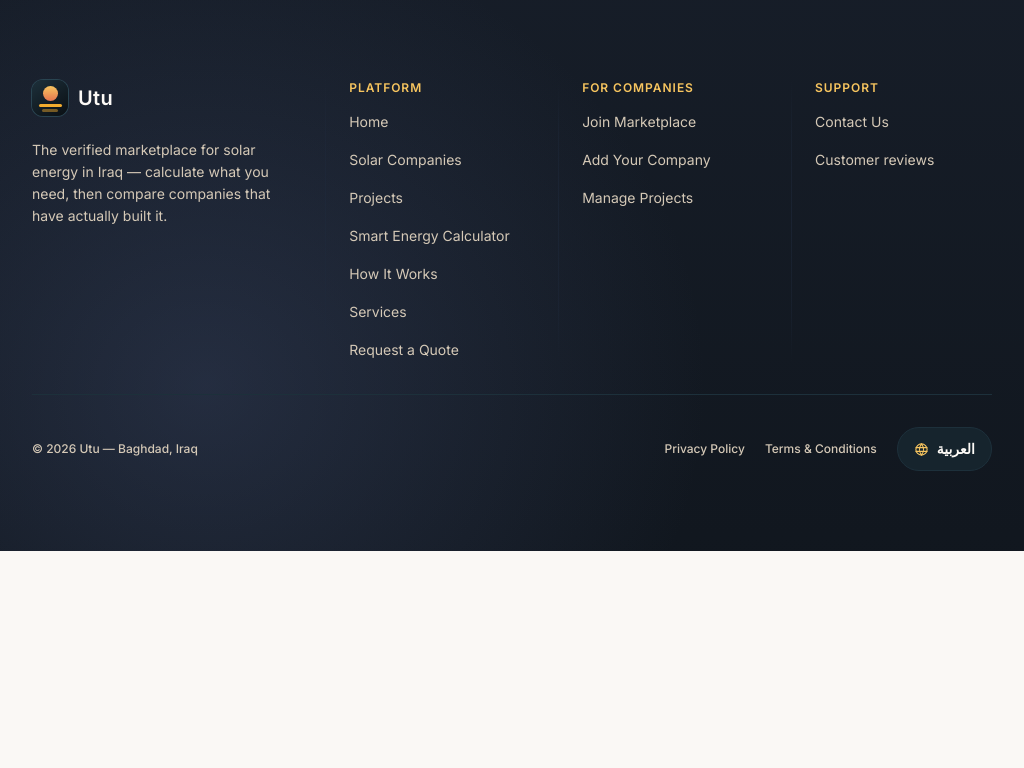
Scenario: Footer quick links › opens Contact Us as a contact dialog instead of navigating to the RFQ form
Click the link "Contact Us": (852, 122) top-left (815, 113), bottom-right (889, 130)
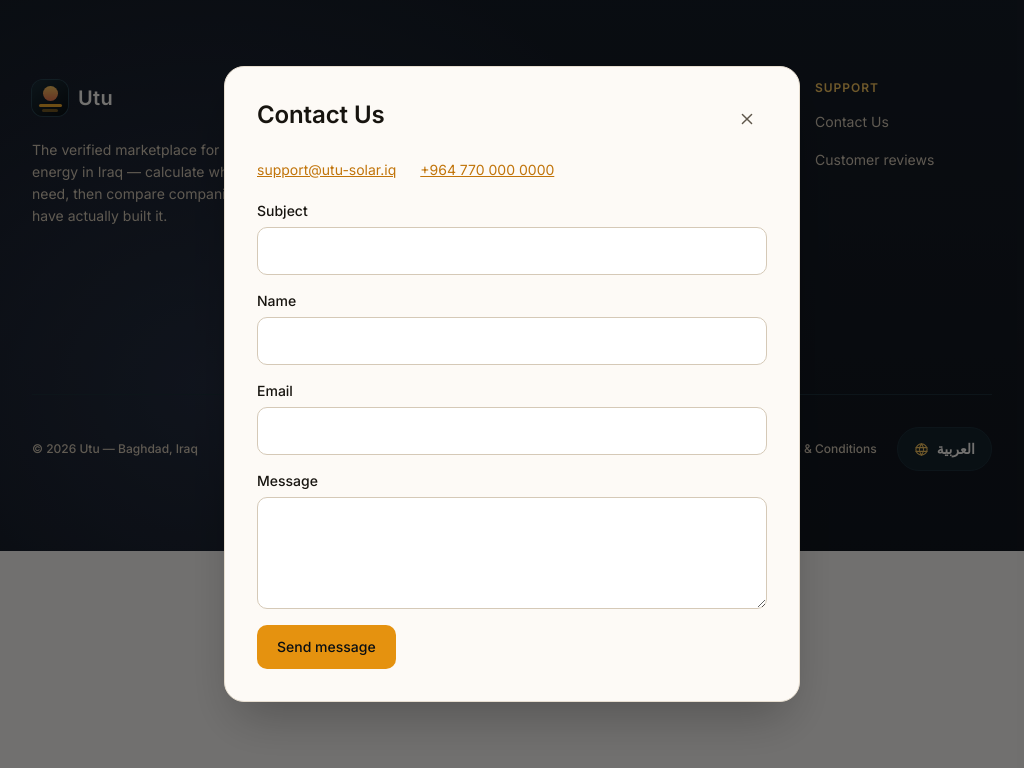
Check: the dialog "Contact Us" is shown, box top-left (224, 66), bottom-right (800, 702)
Check: the field labelled "Subject" is shown, box top-left (257, 227), bottom-right (767, 275)
Check: the text box labelled "Message" is shown, box top-left (257, 497), bottom-right (767, 609)
